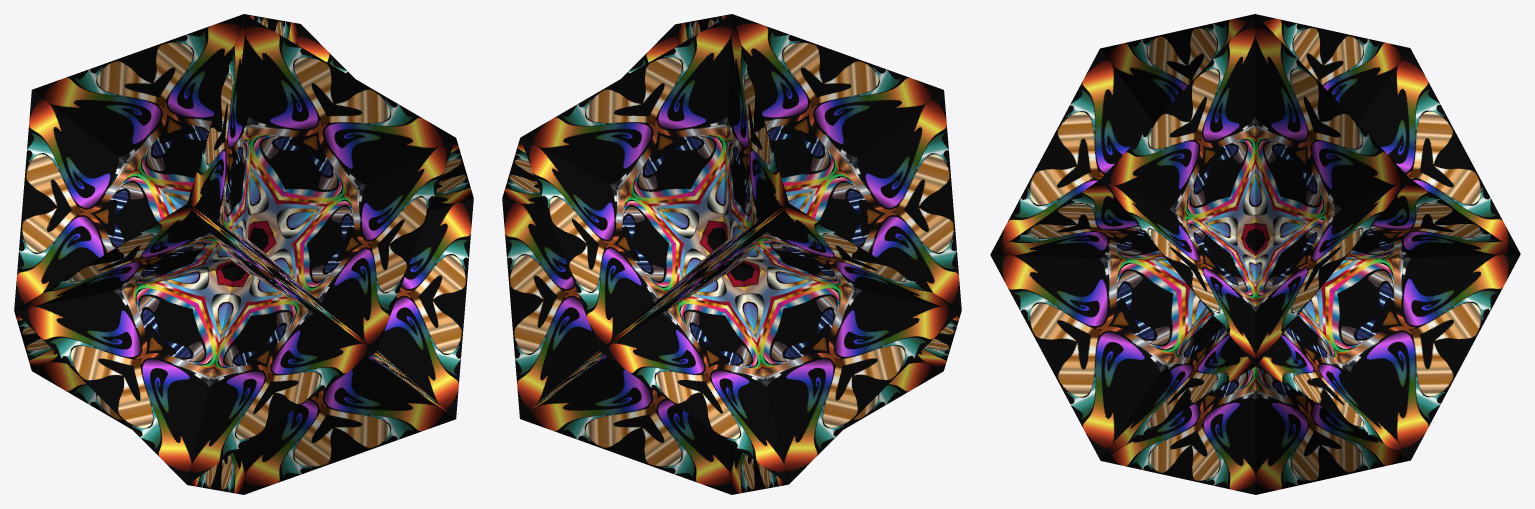
The model's file is Mobius48b_12.obj.
3 views of the same model, side by side, from view 1: azimuth 30°, elevation 25°; view 2: azimuth 150°, elevation 25°; view 3: azimuth 270°, elevation 25° (orthographic).
Bounding box in the file's own units: 2.16 × 2.16 × 2.16.
Materials: 1 (1 with a texture image).
